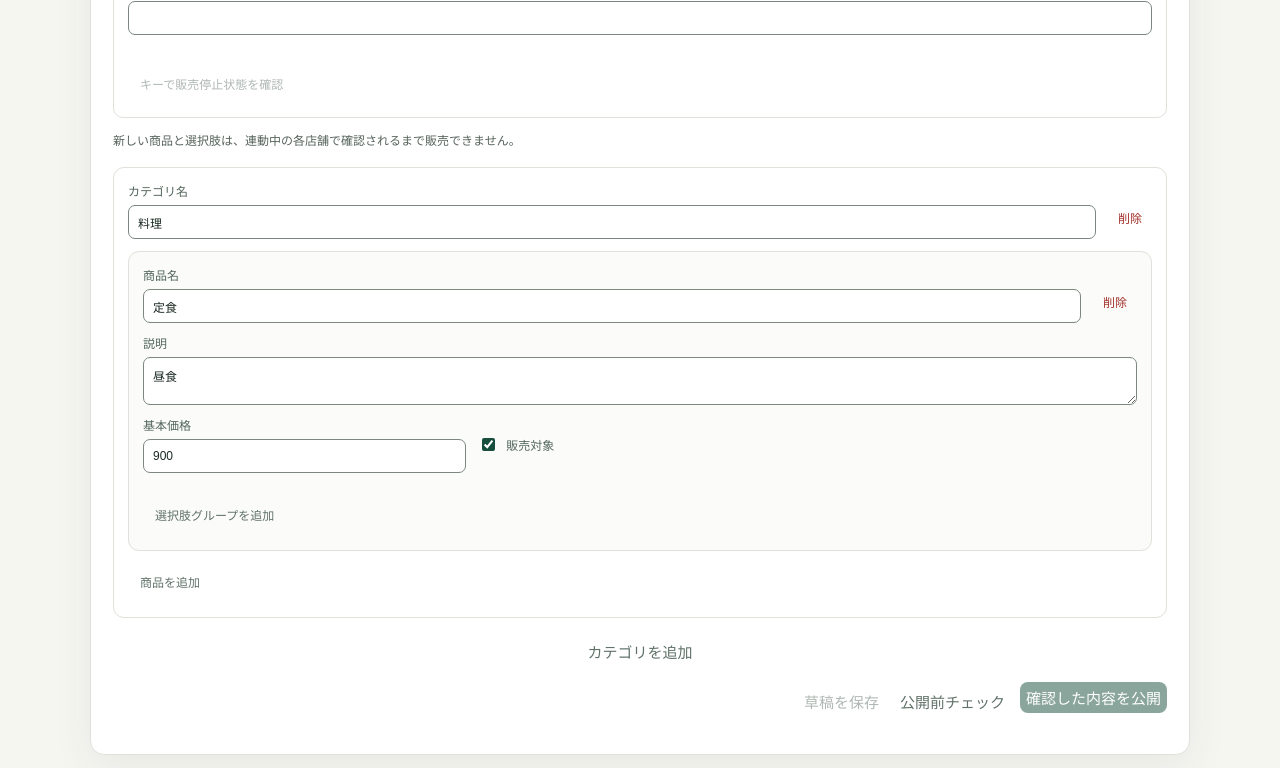
Test: catalog admin UI › resets the editor after authoritative refresh even when the draft version is unchanged
(page scrolled)
Replace the text in the text box labelled "説明" with "未儲存的畫面內容" at (640, 381), box [143,357,1137,405]
(page scrolled)
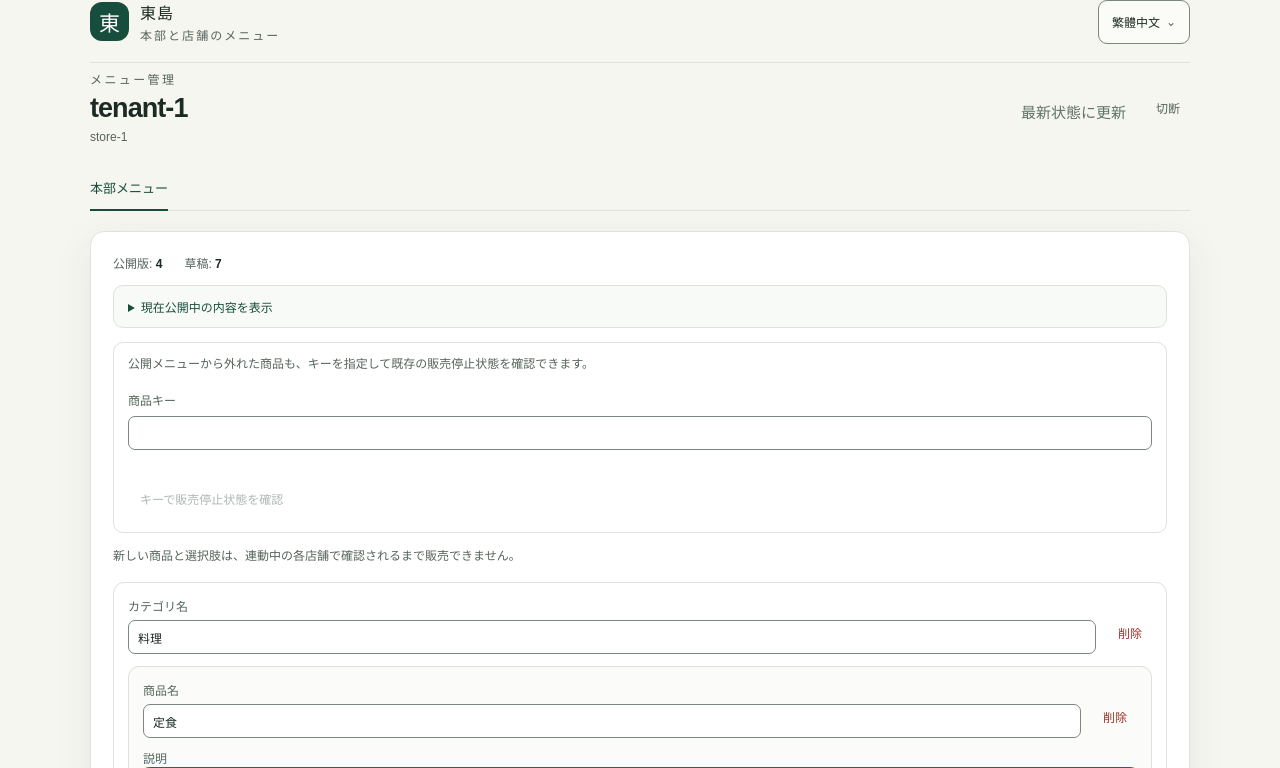
Click the button "最新状態に更新" at (1074, 111), box [1015,100,1132,122]
(page scrolled)
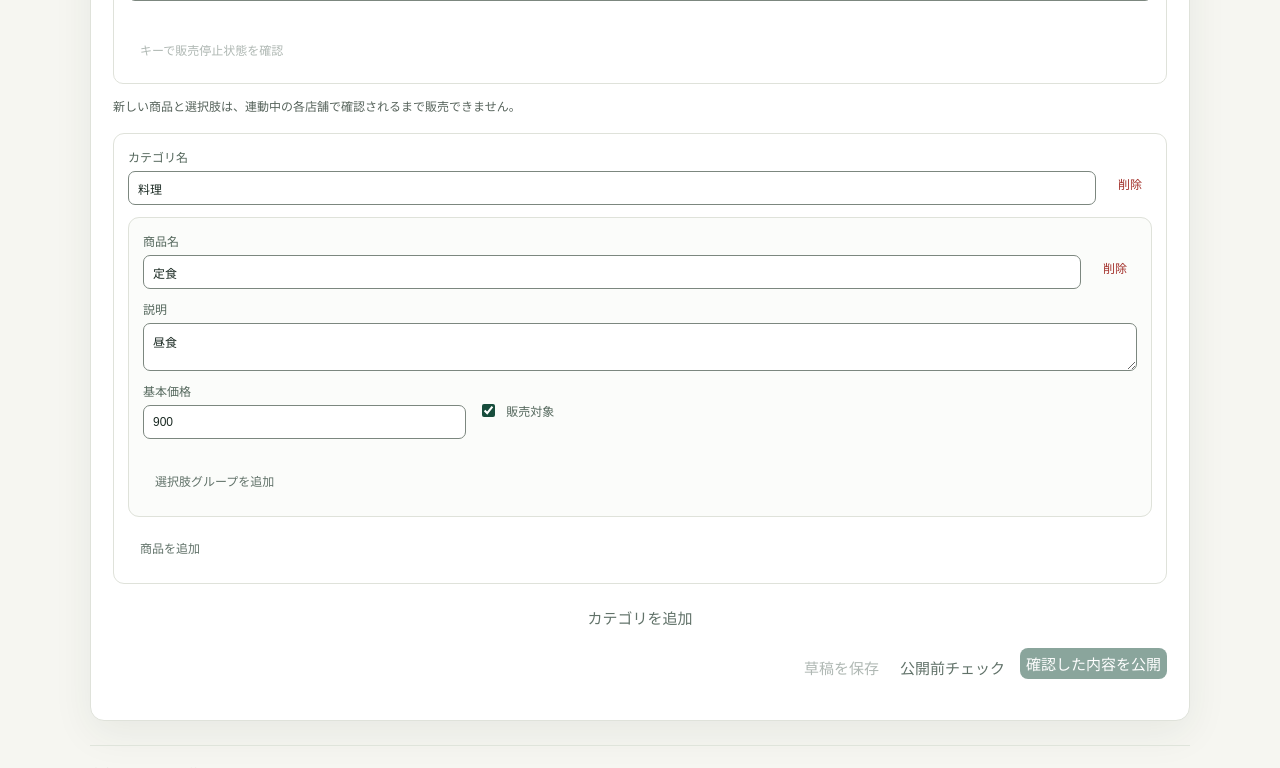
expect the text box labelled "説明" holds "昼食": met, box [143,323,1137,371]
expect the button "公開前チェック" is enabled: met, box [894,656,1011,679]
